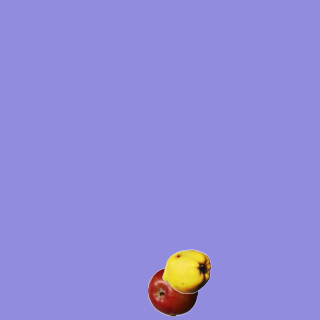Apple Braeburn: (147, 266, 197, 316)
Quince: (161, 246, 211, 296)
